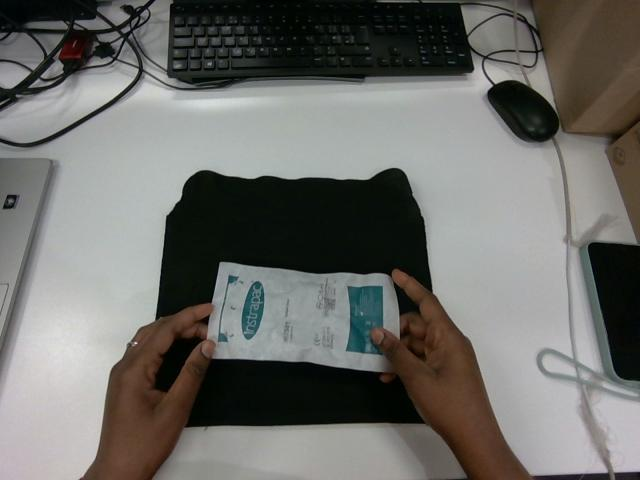gallipot: (208, 262, 398, 371)
